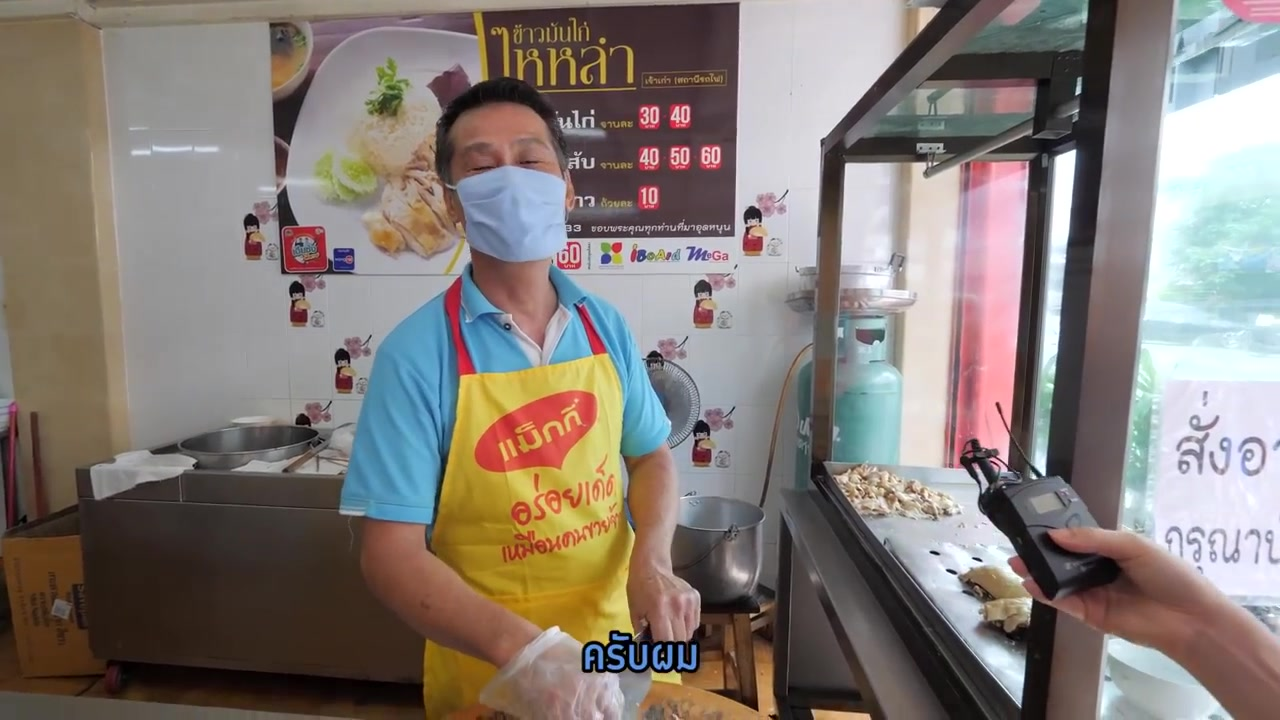text-label: (575, 627, 702, 679)
